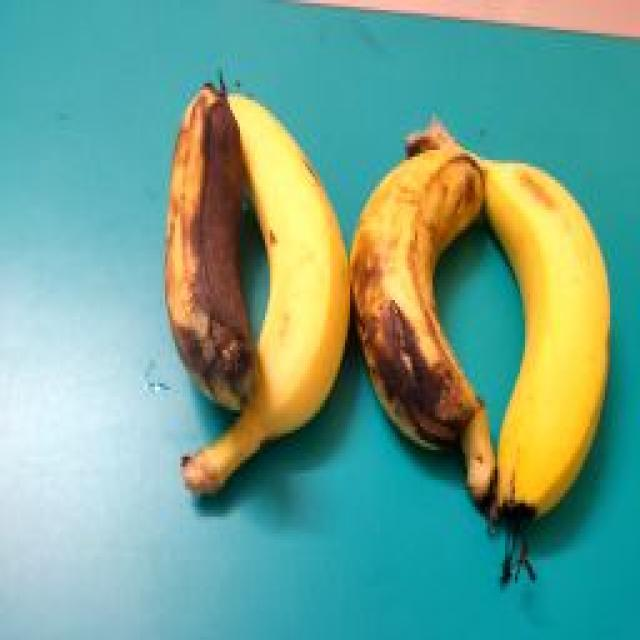Organik: (444, 107, 632, 561), (202, 76, 368, 508), (342, 103, 504, 502), (133, 70, 276, 411)
